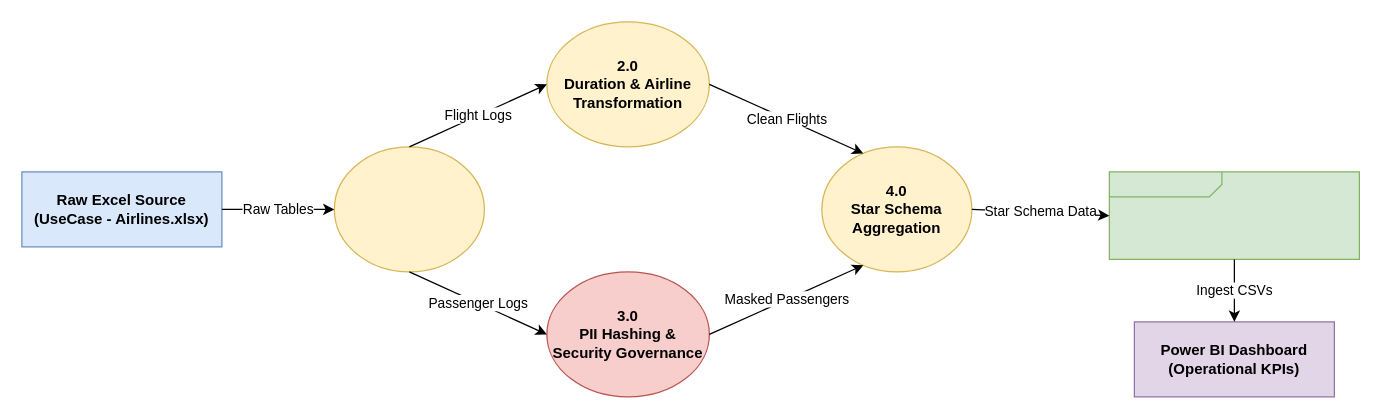
Some shapes in this 1381 by 419 pixel diagram are drawn without their labels. The centre of each missing label's shape, as x and y in pixels:
"1.0 Data Ingestion & Validation" goes at pixel 408 209.
"D1: Cleaned Dimension & Fact Tables (CSVs)" goes at pixel 1233 215.
